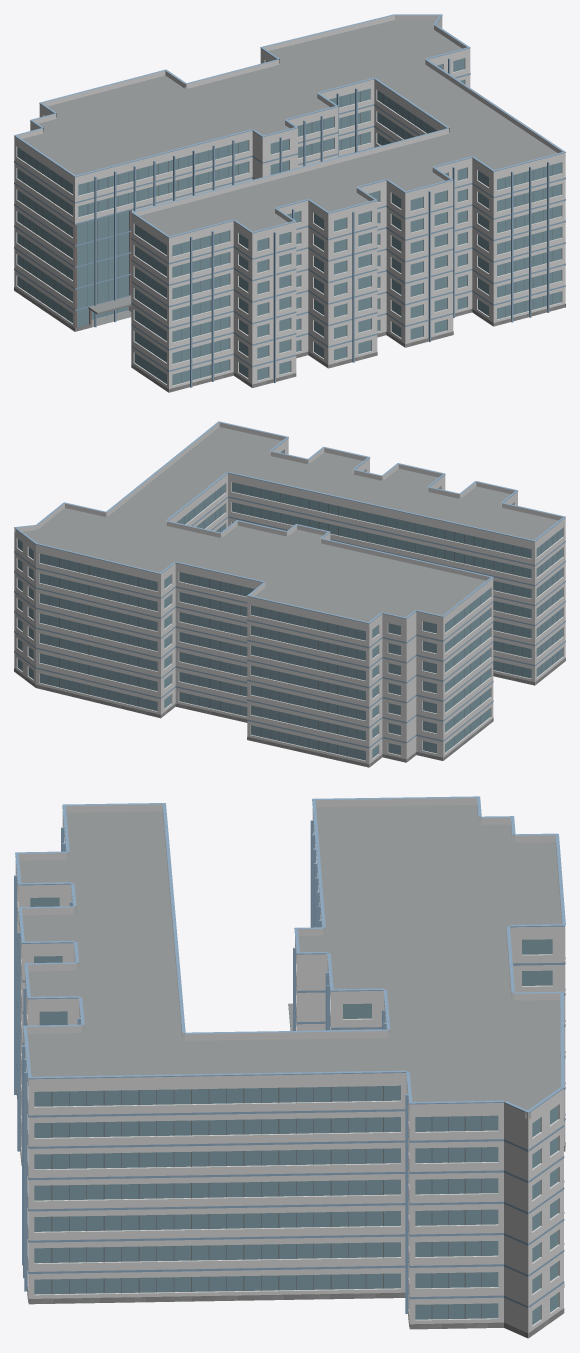
3 views of the same model, one above another, from view 1: azimuth 30°, elevation 25°; view 2: azimuth 150°, elevation 25°; view 3: azimuth 270°, elevation 25° (orthographic). The views are drawn at different scales.
Parts seen in each view (by area): view 1: century21__wall, century21__roof, century21__glass, century21__trim, century21__parapet, century21__frame, century21__base, century21__wall2; view 2: century21__wall, century21__glass, century21__roof, century21__trim, century21__parapet, century21__frame, century21__base; view 3: century21__roof, century21__wall, century21__glass, century21__trim, century21__parapet, century21__frame, century21__base.
Boxes of the visible parts, x1,y1,x2,y2 form: century21__wall: (14, 20, 565, 392); century21__roof: (22, 20, 557, 327); century21__glass: (17, 58, 561, 385); century21__trim: (14, 14, 565, 387); century21__parapet: (14, 15, 565, 241); century21__frame: (23, 91, 552, 382); century21__base: (14, 287, 565, 392); century21__wall2: (75, 210, 131, 331); century21__wall: (14, 442, 565, 766); century21__glass: (17, 450, 562, 760); century21__roof: (22, 427, 558, 621); century21__trim: (14, 421, 565, 748); century21__parapet: (14, 422, 565, 627); century21__frame: (49, 484, 557, 758); century21__base: (14, 658, 565, 767); century21__roof: (19, 805, 564, 1329); century21__wall: (15, 810, 565, 1338); century21__glass: (30, 897, 558, 1324); century21__trim: (14, 796, 565, 1313); century21__parapet: (18, 798, 565, 1119); century21__frame: (51, 1086, 481, 1319); century21__base: (16, 1090, 565, 1338).
Size of the model in its own units: 78.04 by 26.02 by 57.57.
11 materials, 1 textured.
